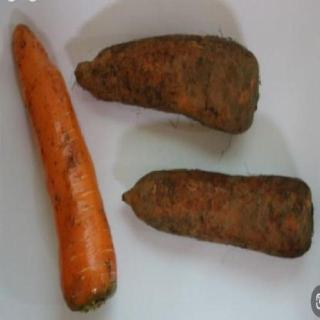carrot: (10, 18, 118, 314), (71, 32, 263, 140), (120, 165, 316, 261)
